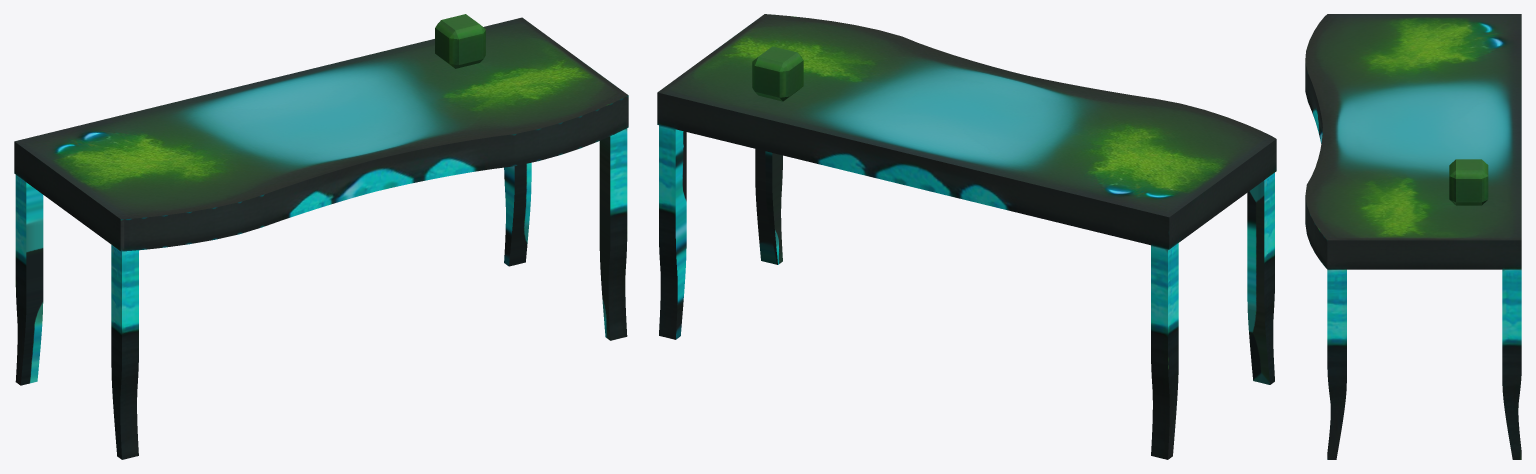
File: edited_mesh.glb
3 renders of one model, left to right at view 1: azimuth 30°, elevation 25°; view 2: azimuth 150°, elevation 25°; view 3: azimuth 270°, elevation 25°, orthographic. The views are drawn at different scales.
Visible parts, largest first — view 1: solid_001_wire; view 2: solid_001_wire; view 3: solid_001_wire.
Boxes of the visible parts, <box> form: solid_001_wire: <box>14,14,628,459</box>; solid_001_wire: <box>657,14,1276,459</box>; solid_001_wire: <box>1305,14,1521,459</box>.
Bounding box in the file's own units: 1.95 × 1.03 × 0.7881.
Materials: 1 (1 with a texture image).
